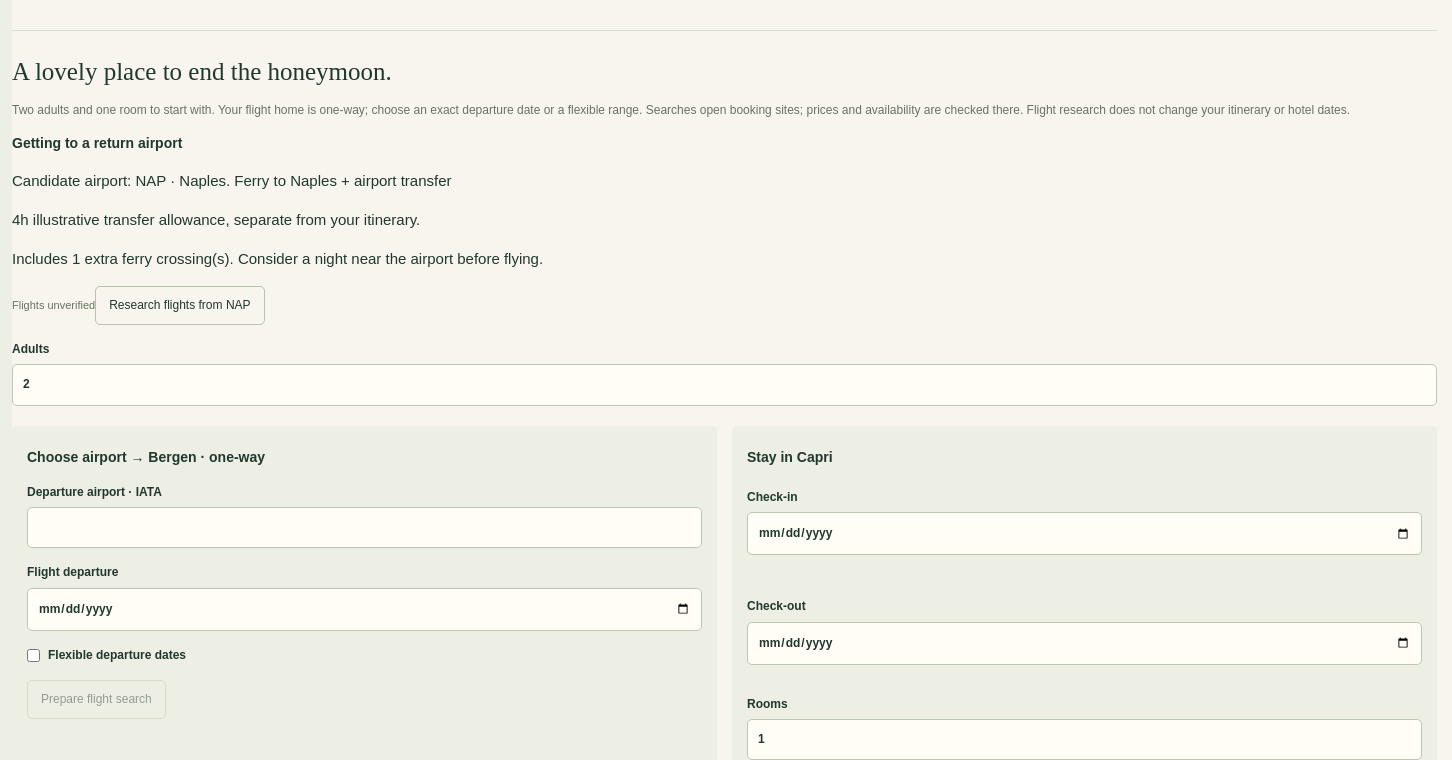
Test: candidate airport does not silently become a flight departure
The width and height of the screenshot is (1452, 760).
Expected: the field labelled "Departure airport · IATA" is empty, [27, 507, 702, 548]
Expected: the button "Prepare flight search" is disabled, [27, 680, 166, 719]
Click the button "Research flights from NAP". click: point(180, 306)
box: [95, 286, 265, 325]
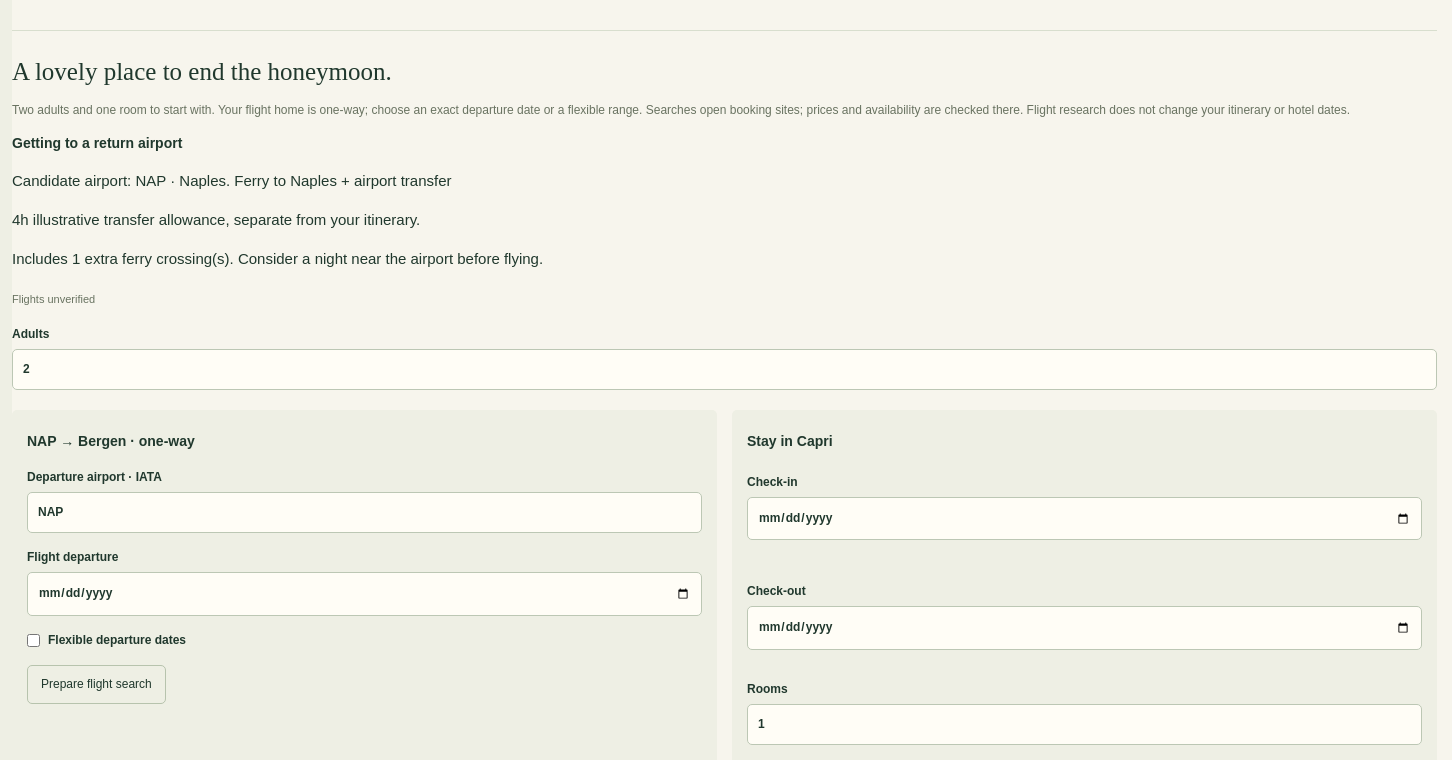
Now the field labelled "Departure airport · IATA" holds "NAP", box [27, 492, 702, 533]
